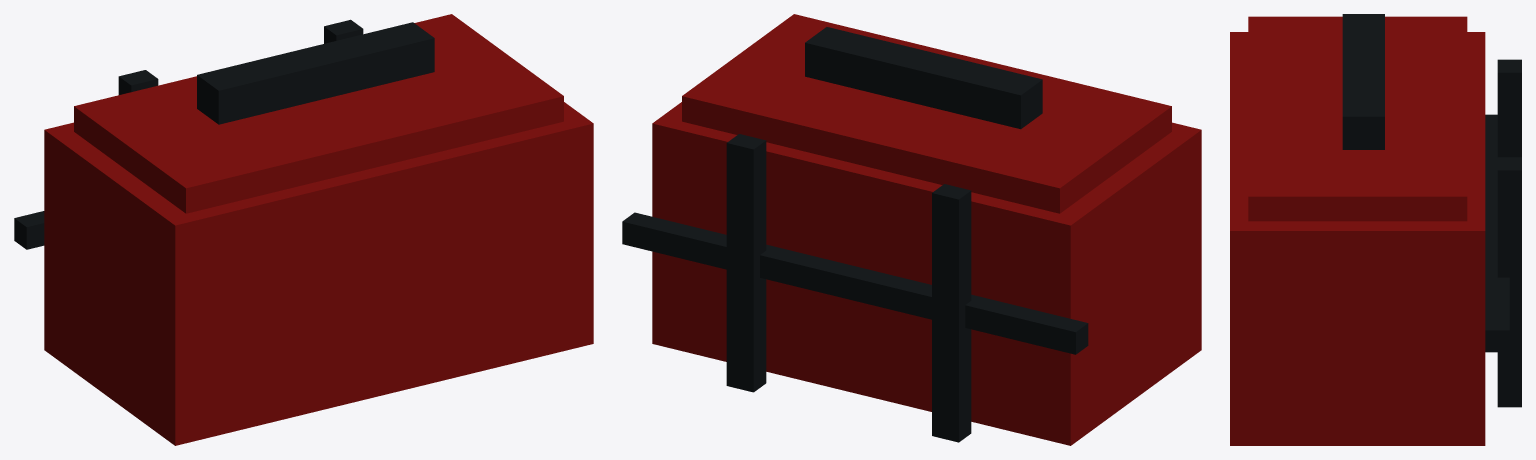
The model's file is medical_bag_proxy.obj.
3 views of the same model, side by side, from view 1: azimuth 30°, elevation 25°; view 2: azimuth 150°, elevation 25°; view 3: azimuth 270°, elevation 25° (orthographic). The views are drawn at different scales.
Visible parts, largest first — view 1: medical_bag_proxy; view 2: medical_bag_proxy; view 3: medical_bag_proxy.
Part boxes in pixels (x1,y1,x2,y2): medical_bag_proxy: (14, 14, 593, 445); medical_bag_proxy: (622, 14, 1201, 445); medical_bag_proxy: (1230, 14, 1521, 445).
Size of the model in its own units: 1.68 by 1.04 by 0.96.
